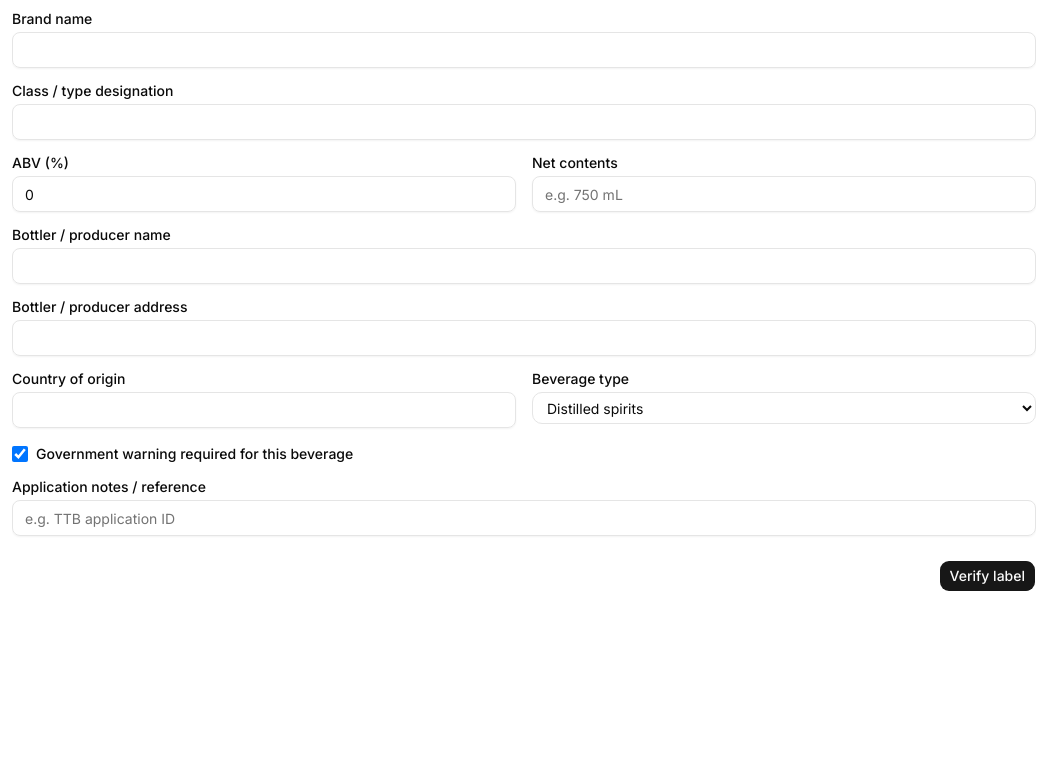
Test: ExpectedDataForm › blocks submit and shows validation errors when required fields are empty
This screenshot has width=1048, height=780.
Click the button "Verify label": (987, 576) [939, 560, 1036, 592]
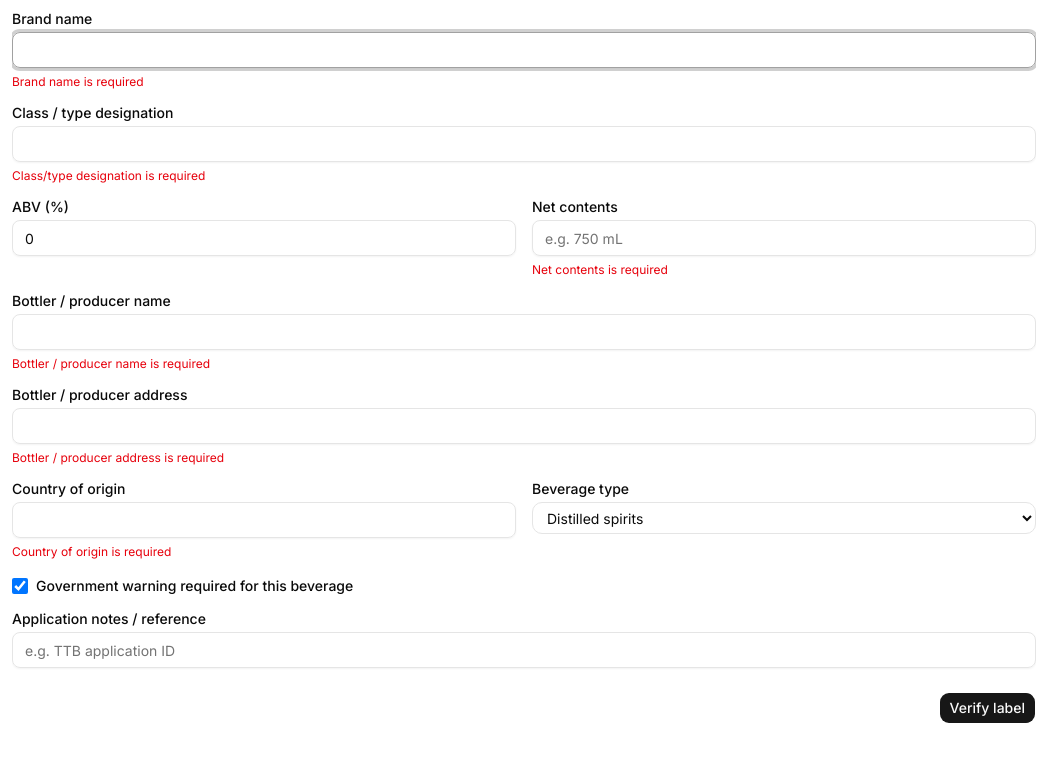
Now the message "Brand name is required" is shown, box [12, 74, 144, 89]
